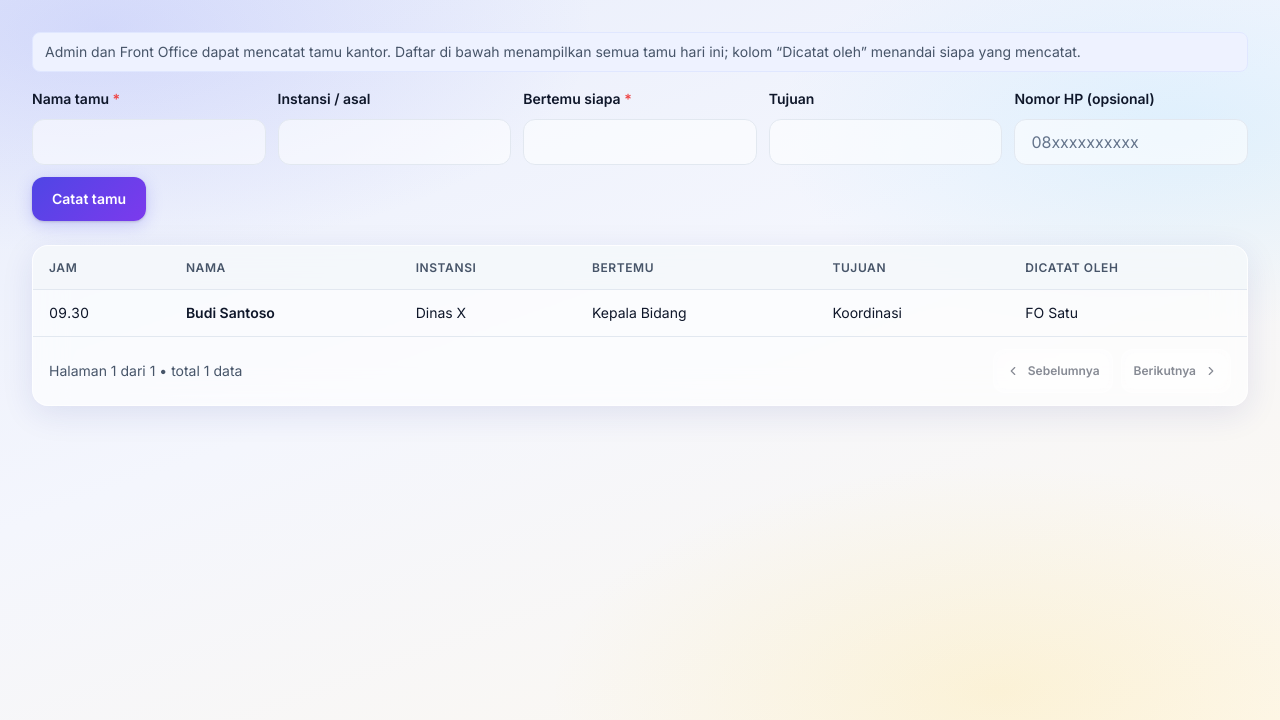
buku tamu › menolak input kurang tanpa memanggil server
Expected: the text "Budi Santoso" is shown, [170,290,400,336]
Click the button "Catat tamu": (89, 199) [32,177,146,221]
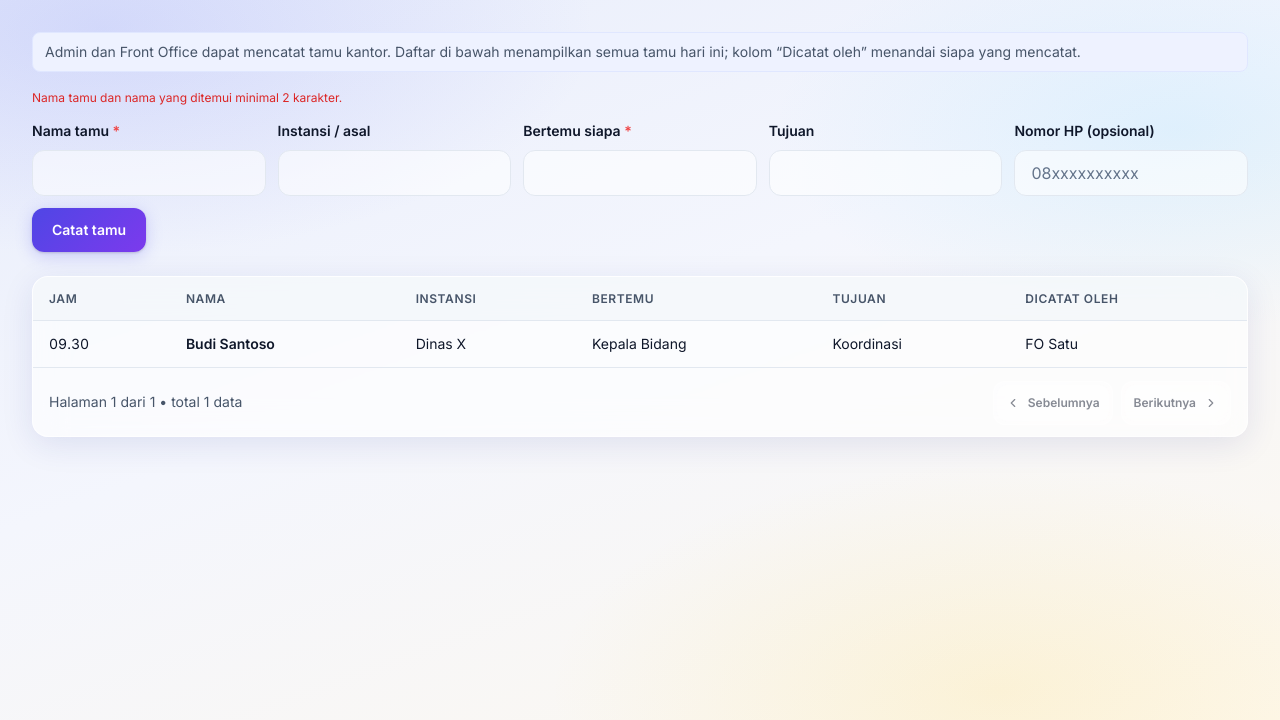
Expected: the text "Nama tamu dan nama yang ditemui minimal 2 karakter." is shown, [32,90,342,105]
